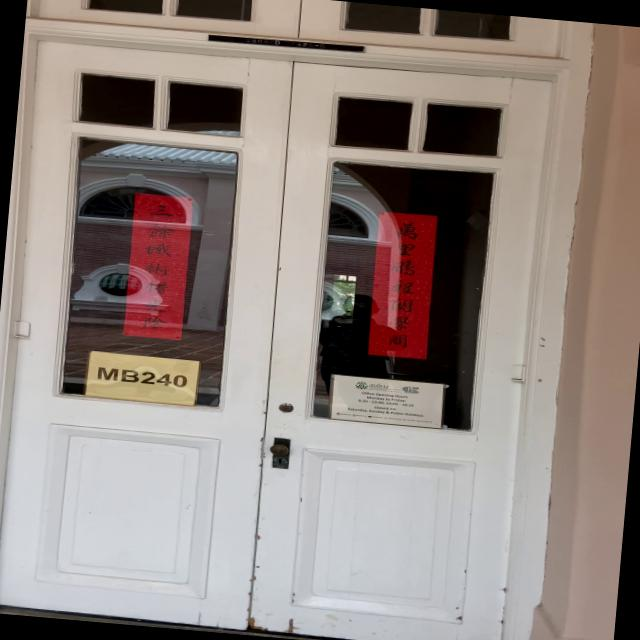room240: (86, 352, 198, 402)
